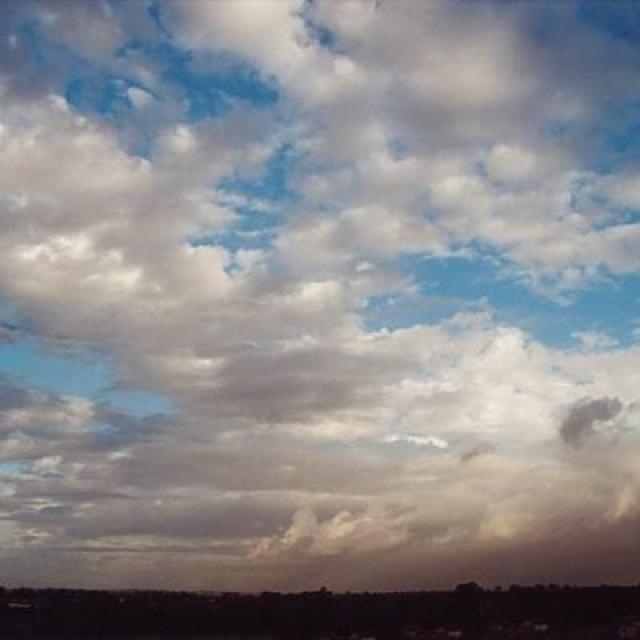Sc: (1, 41, 640, 484)
